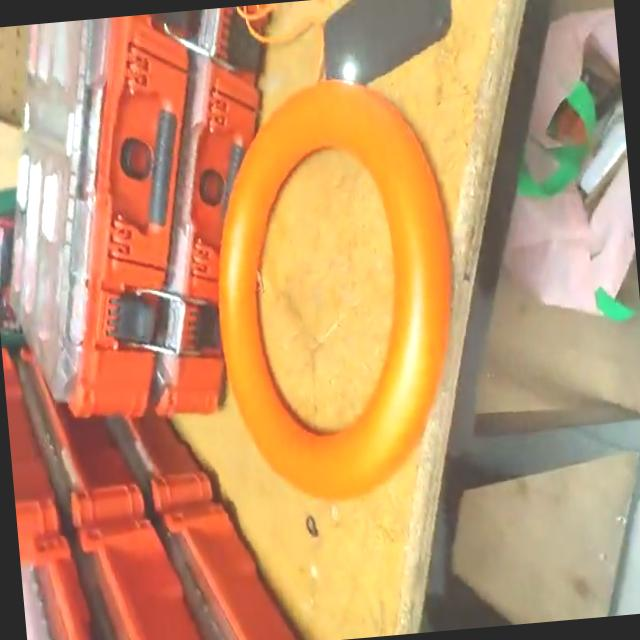note: (195, 70, 480, 517)
